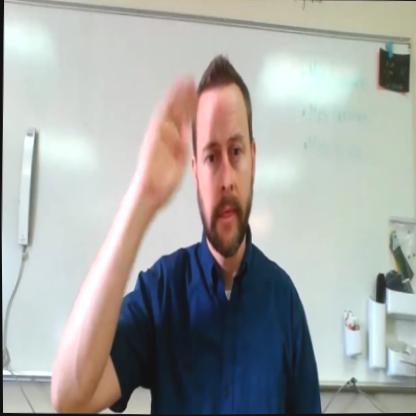Hello: (105, 25, 272, 293)
